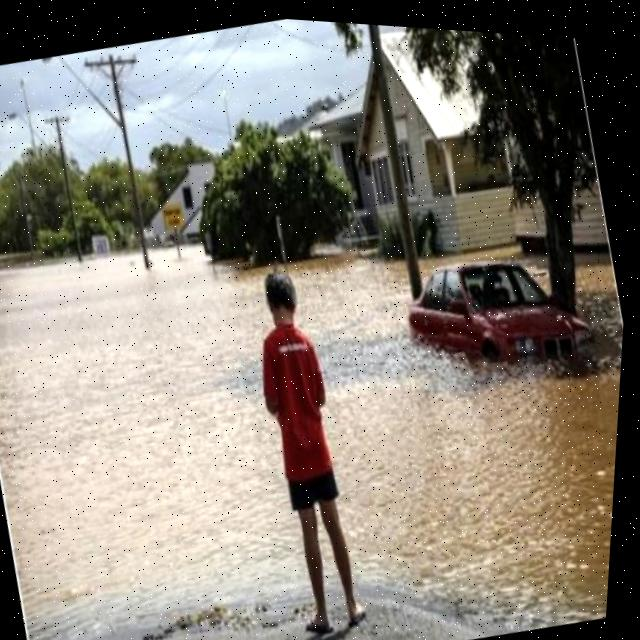civilian: (212, 234, 407, 640)
